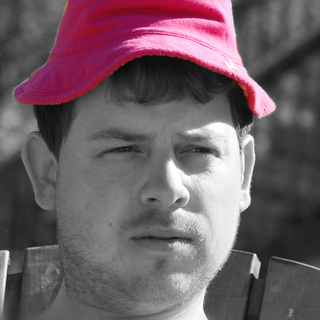eye: (175, 140, 223, 161), (98, 143, 147, 157)
